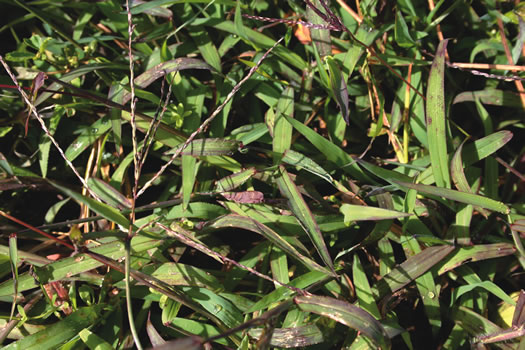crabgrass: (157, 96, 521, 349)
